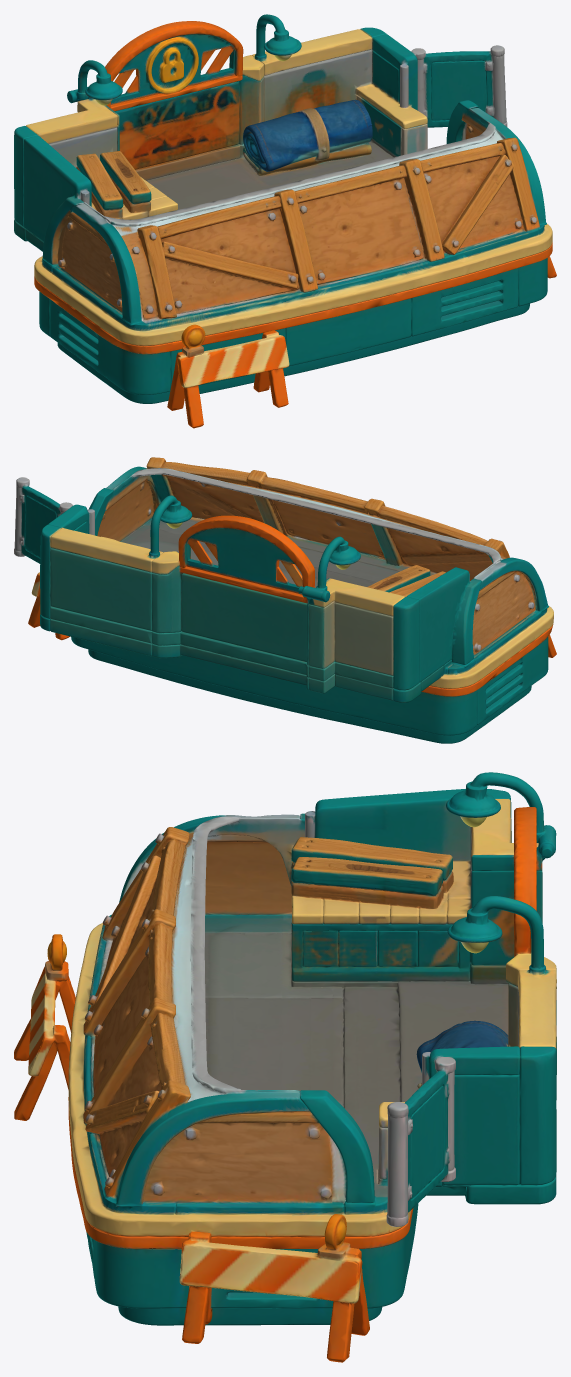
Rendered from FishConstruction.fbx.
The picture shows the model from 3 angles, top to bottom: view 1: azimuth 30°, elevation 25°; view 2: azimuth 150°, elevation 25°; view 3: azimuth 270°, elevation 25°; orthographic projection. The views are drawn at different scales.
Visible parts, largest first — view 1: tripo_node_4862d608-f6d6-4de3-9905-3aa7f2b2983a; view 2: tripo_node_4862d608-f6d6-4de3-9905-3aa7f2b2983a; view 3: tripo_node_4862d608-f6d6-4de3-9905-3aa7f2b2983a.
Boxes of the visible parts, bbox=[...] form: tripo_node_4862d608-f6d6-4de3-9905-3aa7f2b2983a: bbox=[14, 14, 556, 428]; tripo_node_4862d608-f6d6-4de3-9905-3aa7f2b2983a: bbox=[14, 457, 556, 743]; tripo_node_4862d608-f6d6-4de3-9905-3aa7f2b2983a: bbox=[14, 772, 556, 1362].
Bounding box in the file's own units: 98.04 × 45.84 × 65.6.
Materials: 1 (1 with a texture image).
